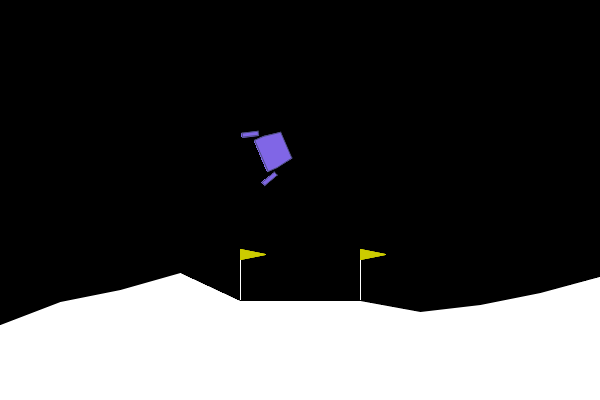lander: (239, 117, 300, 188)
